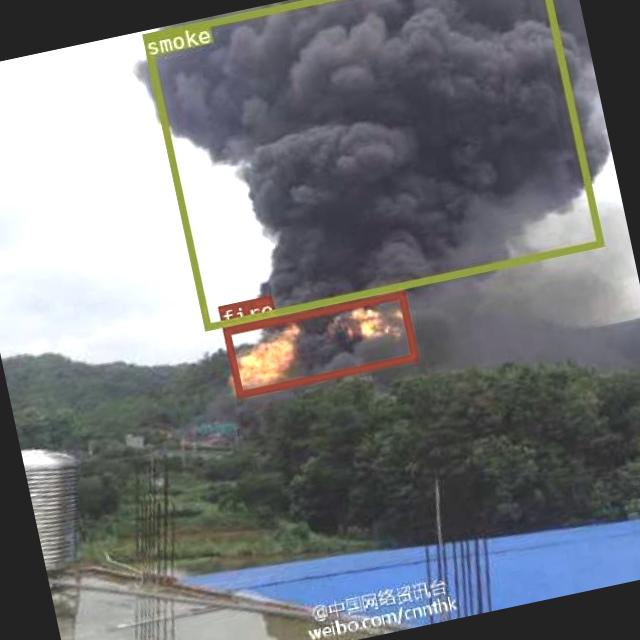fire: (220, 290, 418, 398)
smoke: (141, 0, 603, 329)
